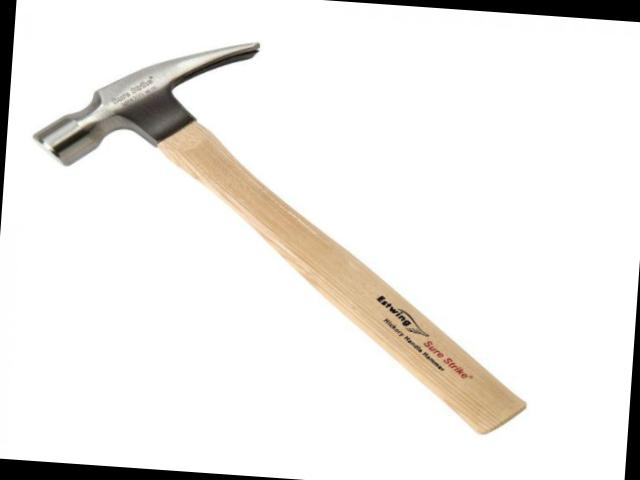hammer: (16, 24, 554, 442)
